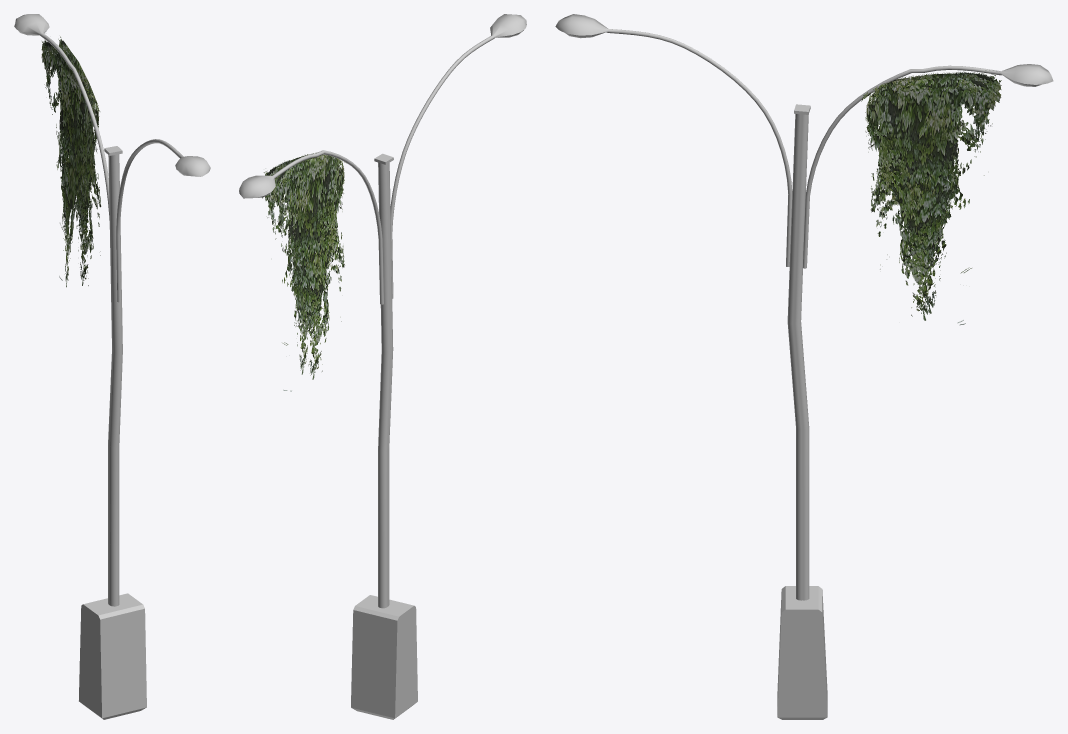
File: CIV_Streetlight_003.fbx
3 views of the same model, side by side, from view 1: azimuth 30°, elevation 25°; view 2: azimuth 150°, elevation 25°; view 3: azimuth 270°, elevation 25° (orthographic). The views are drawn at different scales.
Visible parts, largest first — view 1: CIV_Streetlight_003; view 2: CIV_Streetlight_003; view 3: CIV_Streetlight_003.
Part boxes in pixels (x1,y1,x2,y2): CIV_Streetlight_003: (14, 14, 210, 719); CIV_Streetlight_003: (239, 14, 526, 719); CIV_Streetlight_003: (555, 14, 1053, 719).
Size of the model in its own units: 85.45 by 679 by 451.
